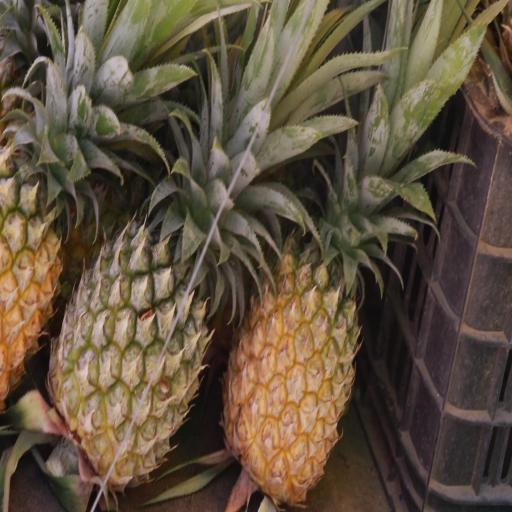Pineapple - v8 v1: (220, 165, 362, 512)
